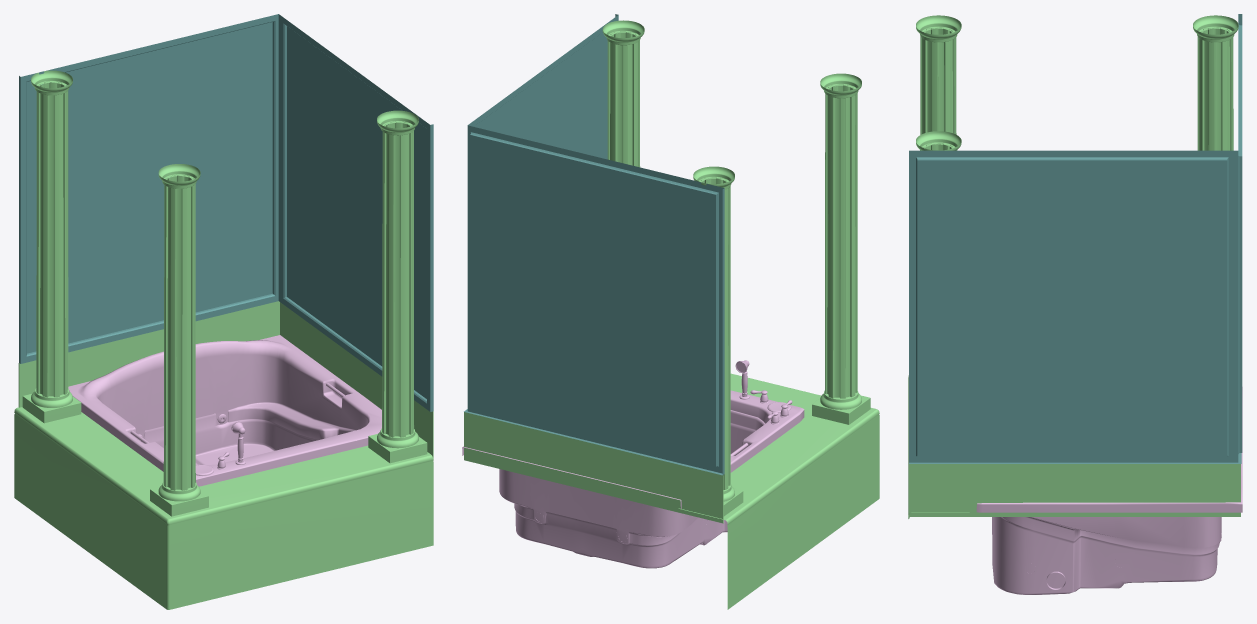
Rendered from Tub_1.fbx.
The picture shows the model from 3 angles, left to right: view 1: azimuth 30°, elevation 25°; view 2: azimuth 150°, elevation 25°; view 3: azimuth 270°, elevation 25°; orthographic projection. The views are drawn at different scales.
Parts seen in each view (by area): view 1: Tub_Mirrors, Tub_Base, Tub_low, Tub_Mirror_frame, Pillar01, Pillar02, Pillar03; view 2: Tub_Mirrors, Tub_Base, Tub_low, Pillar02, Tub_Mirror_frame, Pillar03, Pillar01; view 3: Tub_Mirrors, Tub_low, Tub_Base, Tub_Mirror_frame, Pillar01, Pillar02, Pillar03.
Part boxes in pixels (x1,y1,x2,y2): Tub_Mirrors: [27, 22, 426, 398]; Tub_Base: [14, 301, 433, 609]; Tub_low: [68, 335, 381, 486]; Tub_Mirror_frame: [19, 14, 433, 411]; Pillar01: [22, 70, 81, 423]; Pillar02: [150, 164, 208, 516]; Pillar03: [368, 110, 427, 463]; Tub_Mirrors: [470, 32, 715, 466]; Tub_Base: [464, 373, 879, 609]; Tub_low: [462, 390, 804, 568]; Pillar02: [812, 73, 870, 424]; Tub_Mirror_frame: [464, 14, 724, 475]; Pillar03: [602, 20, 644, 167]; Pillar01: [693, 166, 743, 516]; Tub_Mirrors: [917, 160, 1227, 456]; Tub_low: [976, 387, 1242, 594]; Tub_Base: [908, 375, 1240, 518]; Tub_Mirror_frame: [909, 14, 1242, 463]; Pillar01: [1193, 15, 1238, 150]; Pillar02: [916, 15, 961, 134]; Pillar03: [916, 131, 961, 150].
Bounding box in the file's own units: 166 × 251 × 166.
